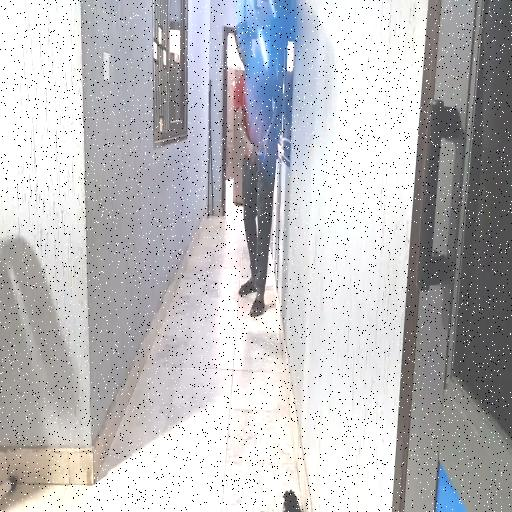plastic-ball: (244, 10, 344, 170)
